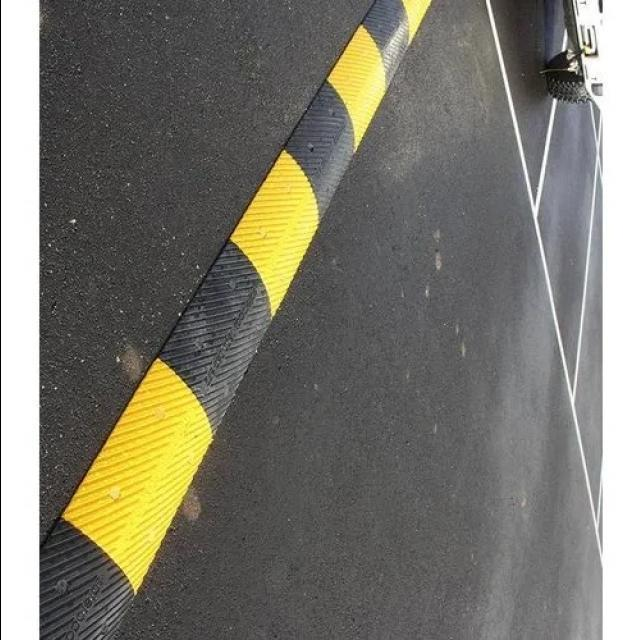speedbreaker: (44, 0, 450, 640)
